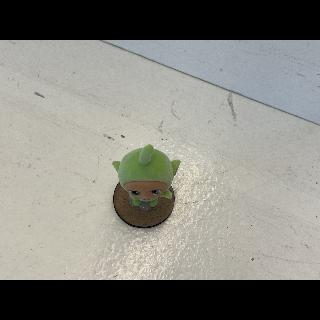teletubby: (112, 144, 181, 208)
